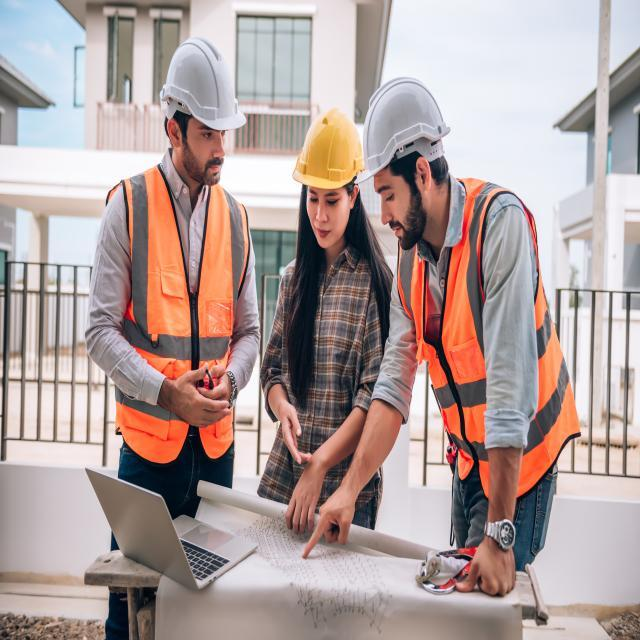helmet: (161, 40, 266, 161), (362, 82, 458, 178), (303, 108, 361, 202)
jacket: (403, 233, 586, 501), (123, 176, 253, 433)
